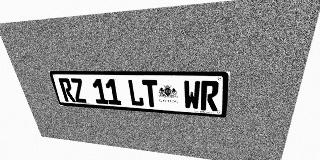1: (104, 79, 121, 105), (91, 79, 108, 104)
L: (127, 79, 144, 106)
R: (200, 81, 219, 111), (58, 78, 76, 102)
T: (142, 80, 159, 107)
W: (183, 80, 200, 110)
Z: (69, 78, 87, 103)
